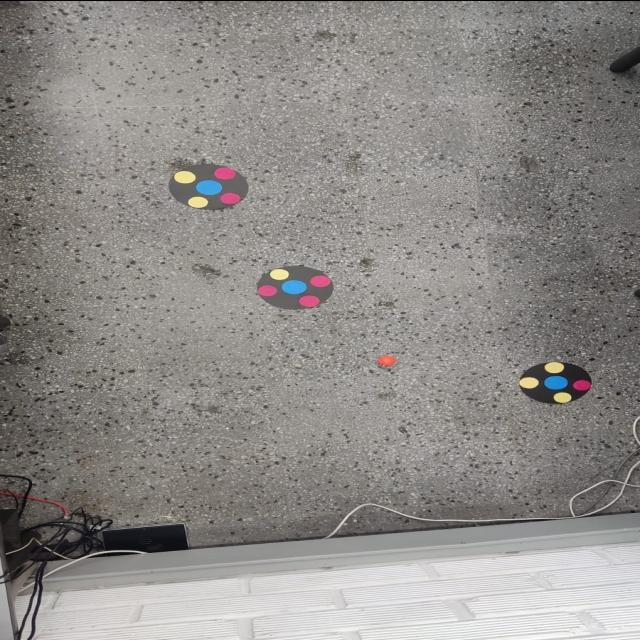0: (256, 264, 336, 308)
1: (168, 163, 250, 209)
2: (516, 359, 594, 403)
Ball: (376, 354, 402, 366)
